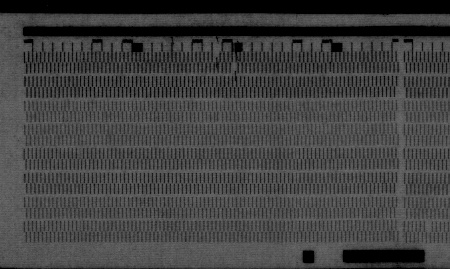Broken hole: (422, 220, 436, 235)
Oblique printing: (229, 62, 241, 79), (230, 50, 243, 64), (212, 111, 225, 124), (211, 51, 222, 66)
